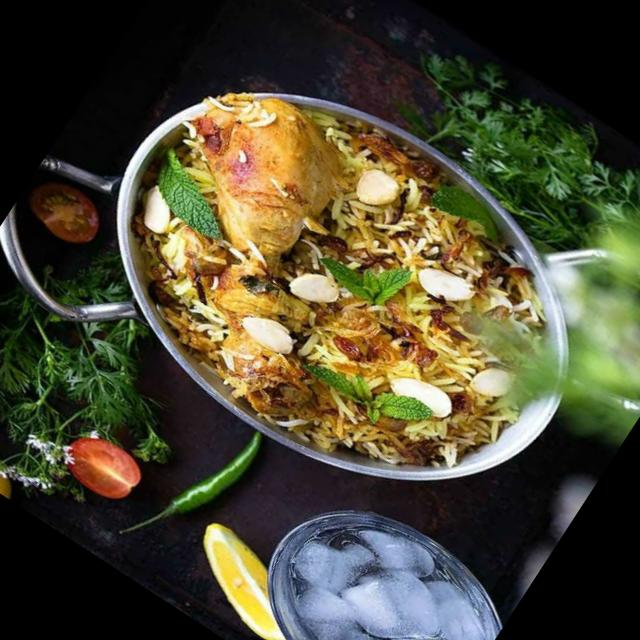Biryani: (70, 48, 605, 540)
